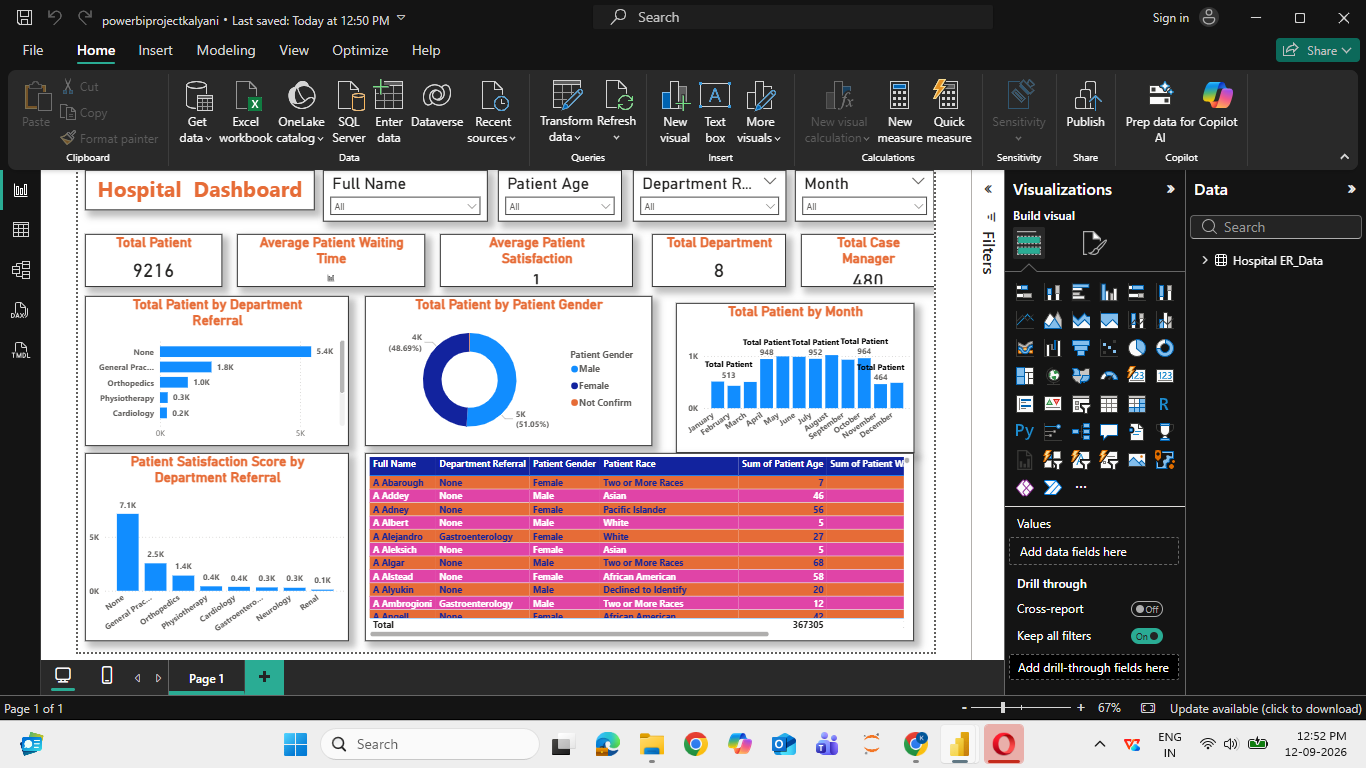

The page's visual inventory and layout, read from the dashboard file:
{"tool":"powerbi","page":{"name":"Page 1","canvas":[1280,720],"ordinal":0},"visuals":[{"type":"textbox","box":[10.3,0,343.5,59.8],"z":0},{"type":"slicer","fields":{"Values":["Hospital ER_Data.Full Name"]},"box":[365.7,0,246.1,76.9],"z":1000},{"type":"slicer","fields":{"Values":["Hospital ER_Data.Patient Age"]},"box":[627.2,0,184.6,76.9],"z":2000},{"type":"slicer","fields":{"Values":["Hospital ER_Data.Department Referral"]},"box":[828.8,0,229,76.9],"z":3000},{"type":"slicer","fields":{"Values":["Hospital ER_Data.Date.Variation.Date Hierarchy.Month"]},"box":[1071.5,0,208.5,76.9],"z":4000},{"type":"card","title":"Total Patient","fields":{"Values":["Count(Hospital ER_Data.Patient Id)"]},"box":[10.5,95.6,204.6,79.2],"z":5000},{"type":"barChart","title":"Average Patient Waiting Time","fields":{"Y":["Avg(Hospital ER_Data.Patient Waittime)"]},"box":[237.5,95.6,280.8,79.2],"z":6000},{"type":"card","title":"Average Patient Satisfaction","fields":{"Values":["Avg(Hospital ER_Data.Patient Satisfaction Score)"]},"box":[540.7,95.6,288.3,79.2],"z":7000},{"type":"card","title":"Total Department","fields":{"Values":["Count(Hospital ER_Data.Department Referral)"]},"box":[857.4,95.6,200.2,79.2],"z":8000},{"type":"card","title":"Total Case Manager","fields":{"Values":["Sum(Hospital ER_Data.Patients CM)"]},"box":[1080,95.6,200.2,79.2],"z":9000},{"type":"barChart","fields":{"Y":["Hospital ER_Data.Total Patient"],"Category":["Hospital ER_Data.Department Referral"]},"box":[10.5,188.2,394.4,224.1],"z":10000},{"type":"donutChart","fields":{"Y":["Hospital ER_Data.Total Patient"],"Category":["Hospital ER_Data.Patient Gender"]},"box":[428.7,188.2,428.7,224.1],"z":11000},{"type":"clusteredColumnChart","fields":{"Y":["Hospital ER_Data.Total Patient"],"Category":["Hospital ER_Data.Date.Variation.Date Hierarchy.Month"]},"box":[893.3,198.7,355.5,224.1],"z":12000},{"type":"clusteredColumnChart","title":"Patient Satisfaction Score by Department Referral","fields":{"Y":["Sum(Hospital ER_Data.Patient Satisfaction Score)"],"Category":["Hospital ER_Data.Department Referral"]},"box":[10.5,422.7,394.4,280.8],"z":13000},{"type":"tableEx","fields":{"Values":["Hospital ER_Data.Full Name","Hospital ER_Data.Department Referral","Hospital ER_Data.Patient Gender","Hospital ER_Data.Patient Race","Sum(Hospital ER_Data.Patient Age)","Sum(Hospital ER_Data.Patient Waittime)","Sum(Hospital ER_Data.Patient Satisfaction Score)"]},"box":[428.7,422.7,820.1,280.8],"z":14000}]}

Visuals, with their boxes on the page's 1280x720 design canvas (x1, y1, x2, y2). These are canvas units, not pixel positions in the 1366x768 screenshot, which may show the page scaled, cropped or inside an application window:
textbox: (x1=10, y1=0, x2=354, y2=60)
slicer - Hospital ER_Data.Full Name: (x1=366, y1=0, x2=612, y2=77)
slicer - Hospital ER_Data.Patient Age: (x1=627, y1=0, x2=812, y2=77)
slicer - Hospital ER_Data.Department Referral: (x1=829, y1=0, x2=1058, y2=77)
slicer - Hospital ER_Data.Date.Variation.Date Hierarchy.Month: (x1=1072, y1=0, x2=1280, y2=77)
"Total Patient" card: (x1=10, y1=96, x2=215, y2=175)
"Average Patient Waiting Time" barChart: (x1=238, y1=96, x2=518, y2=175)
"Average Patient Satisfaction" card: (x1=541, y1=96, x2=829, y2=175)
"Total Department" card: (x1=857, y1=96, x2=1058, y2=175)
"Total Case Manager" card: (x1=1080, y1=96, x2=1280, y2=175)
barChart - Hospital ER_Data.Total Patient x Hospital ER_Data.Department Referral: (x1=10, y1=188, x2=405, y2=412)
donutChart - Hospital ER_Data.Total Patient x Hospital ER_Data.Patient Gender: (x1=429, y1=188, x2=857, y2=412)
clusteredColumnChart - Hospital ER_Data.Total Patient x Hospital ER_Data.Date.Variation.Date Hierarchy.Month: (x1=893, y1=199, x2=1249, y2=423)
"Patient Satisfaction Score by Department Referral" clusteredColumnChart: (x1=10, y1=423, x2=405, y2=704)
tableEx - Hospital ER_Data.Full Name x Hospital ER_Data.Department Referral: (x1=429, y1=423, x2=1249, y2=704)
